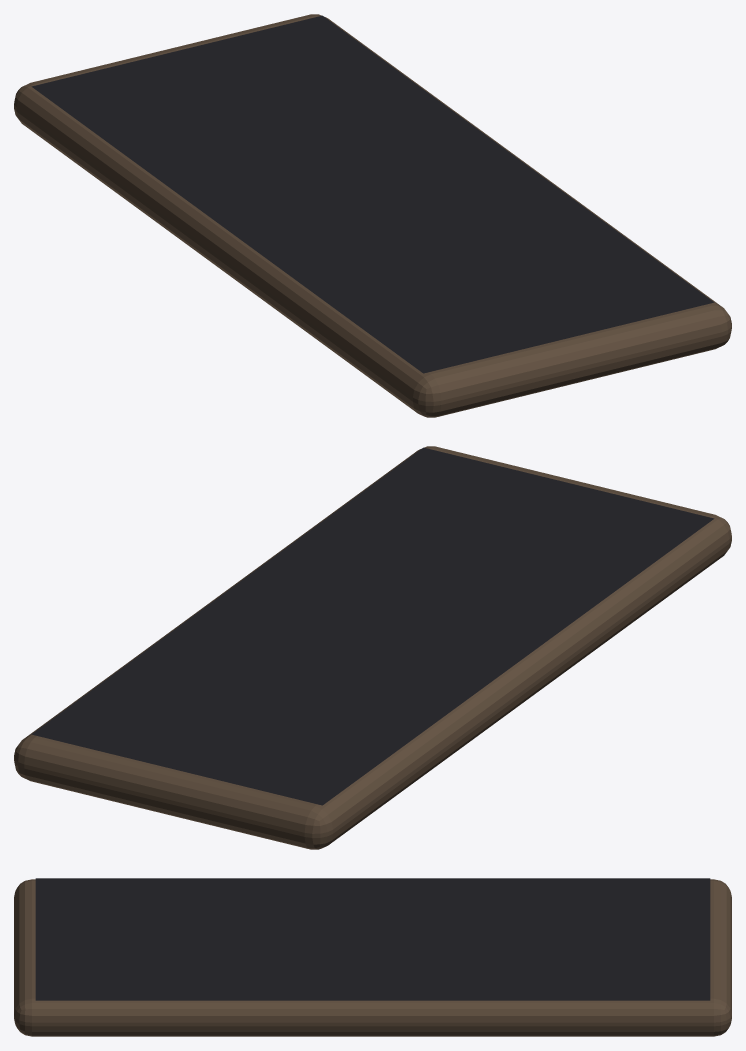
File: Phone_202.glb
The picture shows the model from 3 angles, top to bottom: view 1: azimuth 30°, elevation 25°; view 2: azimuth 150°, elevation 25°; view 3: azimuth 270°, elevation 25°; orthographic projection. The views are drawn at different scales.
Parts seen in each view (by area): view 1: Phone_Screen, Phone_Body; view 2: Phone_Screen, Phone_Body; view 3: Phone_Screen, Phone_Body.
Boxes of the visible parts, box(x1,y1,x2,y2) form: Phone_Screen: box(31, 15, 714, 373); Phone_Body: box(14, 14, 731, 417); Phone_Screen: box(31, 447, 714, 805); Phone_Body: box(14, 446, 731, 849); Phone_Screen: box(35, 878, 710, 1000); Phone_Body: box(14, 879, 731, 1036).
Bounding box in the file's own units: 0.0726 × 0.0093 × 0.1657.
